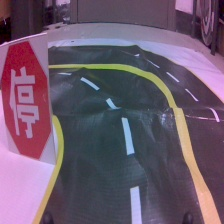stop: (1, 32, 58, 164)
